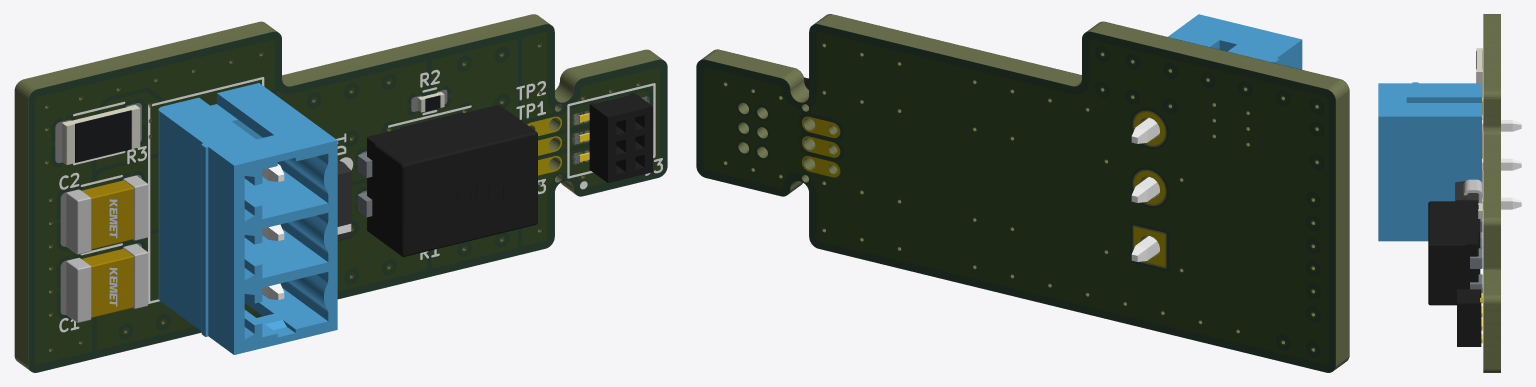
File: minimal_spoe_hybrid.glb
3 renders of one model, left to right at view 1: azimuth 30°, elevation 25°; view 2: azimuth 150°, elevation 25°; view 3: azimuth 270°, elevation 25°, orthographic. The views are drawn at different scales.
Visible parts, largest first — view 1: SHAPE_911, SHAPE_909, SHAPE_907, SHAPE_908, SHAPE_401, SHAPE_619, SHAPE_626, SHAPE_756, SHAPE_620, SHAPE_914, SHAPE_261 (×2), SHAPE_372 (+22 smaller); view 2: SHAPE_913, SHAPE_912, SHAPE_907, SHAPE_908, SHAPE_756, SHAPE_911; view 3: SHAPE_628, SHAPE_908, SHAPE_756, SHAPE_371, SHAPE_372, SHAPE_559, SHAPE_465, SHAPE_750, SHAPE_473, SHAPE_555, SHAPE_475, SHAPE_761 (+1 smaller).
Boxes of the visible parts, left/top/right/bottom form: SHAPE_911: left=28, top=24, right=667, bottom=372; SHAPE_909: left=36, top=32, right=659, bottom=364; SHAPE_907: left=28, top=24, right=666, bottom=371; SHAPE_908: left=14, top=14, right=662, bottom=370; SHAPE_401: left=404, top=135, right=536, bottom=255; SHAPE_619: left=234, top=140, right=337, bottom=354; SHAPE_626: left=159, top=111, right=202, bottom=330; SHAPE_756: left=158, top=83, right=337, bottom=165; SHAPE_620: left=208, top=147, right=233, bottom=354; SHAPE_914: left=59, top=69, right=662, bottom=332; SHAPE_261 (×2): left=91, top=189, right=133, bottom=317; SHAPE_372: left=379, top=114, right=534, bottom=163; SHAPE_913: left=696, top=24, right=1335, bottom=372; SHAPE_912: left=704, top=32, right=1327, bottom=364; SHAPE_907: left=697, top=24, right=1335, bottom=371; SHAPE_908: left=701, top=14, right=1349, bottom=370; SHAPE_756: left=1168, top=14, right=1301, bottom=62; SHAPE_911: left=717, top=14, right=1349, bottom=357; SHAPE_628: left=1378, top=116, right=1481, bottom=241; SHAPE_908: left=1483, top=14, right=1500, bottom=372; SHAPE_756: left=1378, top=82, right=1481, bottom=116; SHAPE_371: left=1430, top=246, right=1462, bottom=304; SHAPE_372: left=1430, top=201, right=1462, bottom=243; SHAPE_559: left=1457, top=303, right=1481, bottom=346; SHAPE_465: left=1462, top=201, right=1480, bottom=243; SHAPE_750: left=1406, top=97, right=1481, bottom=102; SHAPE_473: left=1465, top=244, right=1476, bottom=289; SHAPE_555: left=1457, top=289, right=1481, bottom=303; SHAPE_475: left=1462, top=246, right=1465, bottom=289; SHAPE_761: left=1456, top=181, right=1466, bottom=199.
Size of the model in its own units: 17 by 7.2 by 5.
